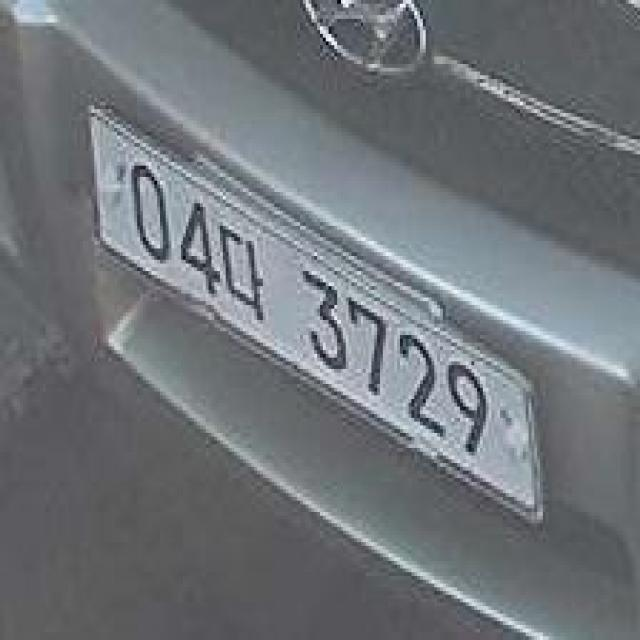illegal_plate: (82, 110, 552, 544)
